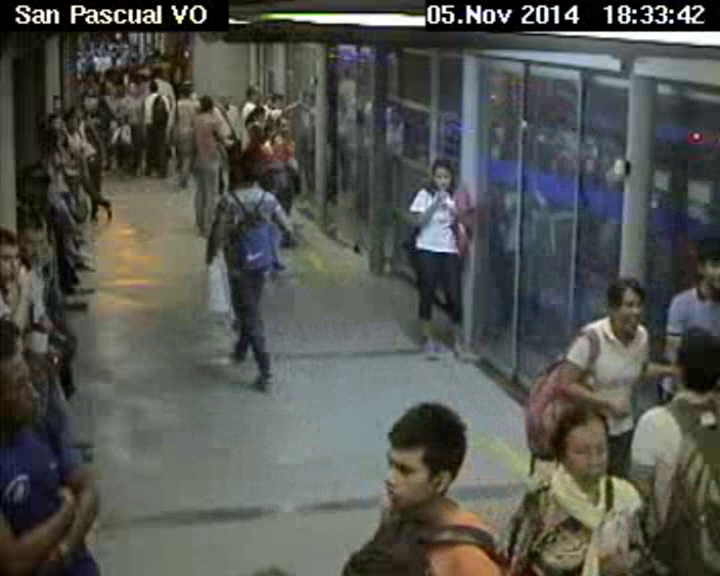person: (378, 393, 464, 521), (542, 401, 623, 489), (1, 341, 67, 438), (659, 321, 718, 401), (603, 273, 648, 338), (17, 215, 51, 275), (1, 222, 25, 288), (696, 227, 720, 292), (426, 151, 455, 195), (23, 159, 54, 198), (231, 150, 261, 190), (39, 125, 66, 149), (197, 95, 219, 118), (244, 84, 266, 104), (274, 114, 292, 136), (46, 91, 63, 114), (268, 92, 289, 110), (148, 81, 166, 97), (64, 112, 77, 133), (46, 114, 63, 130), (249, 103, 264, 121), (175, 83, 190, 100), (126, 79, 140, 95)
